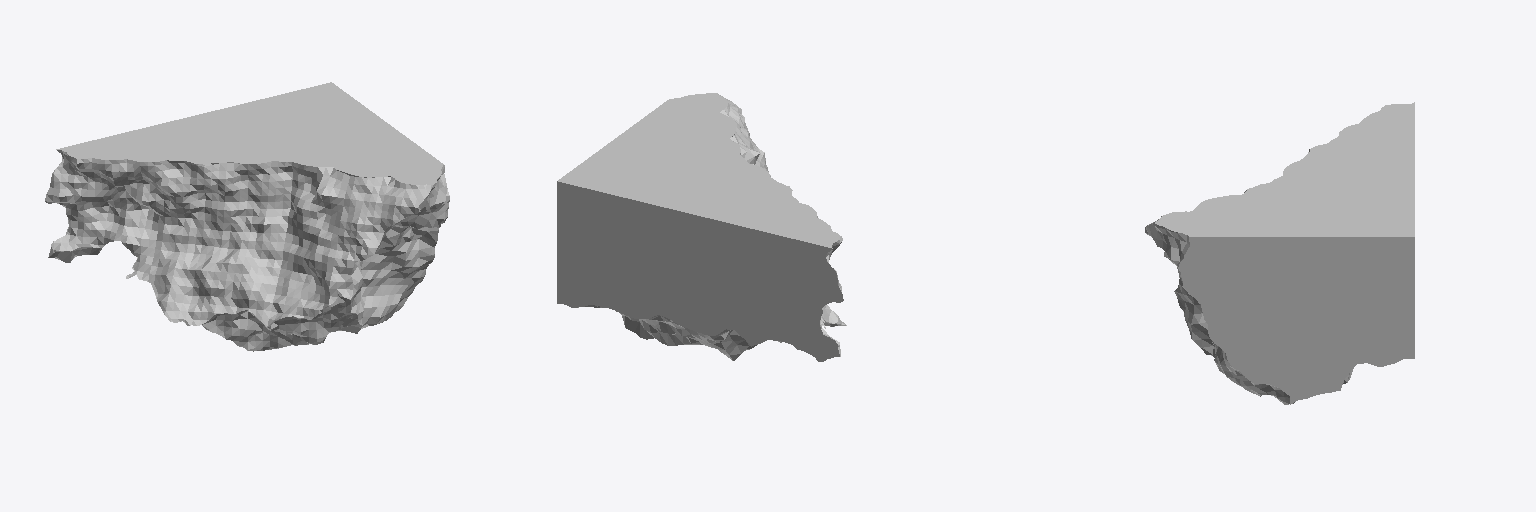
Rendered from cube_20_seed_4_shard.012.obj.
The picture shows the model from 3 angles: view 1: azimuth 30°, elevation 25°; view 2: azimuth 150°, elevation 25°; view 3: azimuth 270°, elevation 25°; orthographic projection.
Parts seen in each view (by area): view 1: Cube_shard.012_Cube_shard.152; view 2: Cube_shard.012_Cube_shard.152; view 3: Cube_shard.012_Cube_shard.152.
Part boxes in pixels (left/top/right/bottom): Cube_shard.012_Cube_shard.152: left=45, top=82, right=449, bottom=351; Cube_shard.012_Cube_shard.152: left=557, top=93, right=846, bottom=361; Cube_shard.012_Cube_shard.152: left=1145, top=102, right=1414, bottom=404.
Size of the model in its own units: 1.65 by 0.9848 by 1.35.